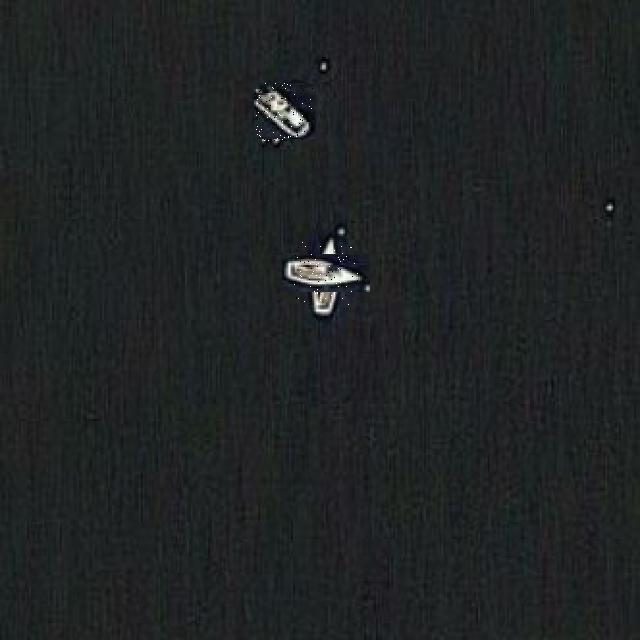boat: (294, 242, 358, 305), (255, 82, 314, 141)
